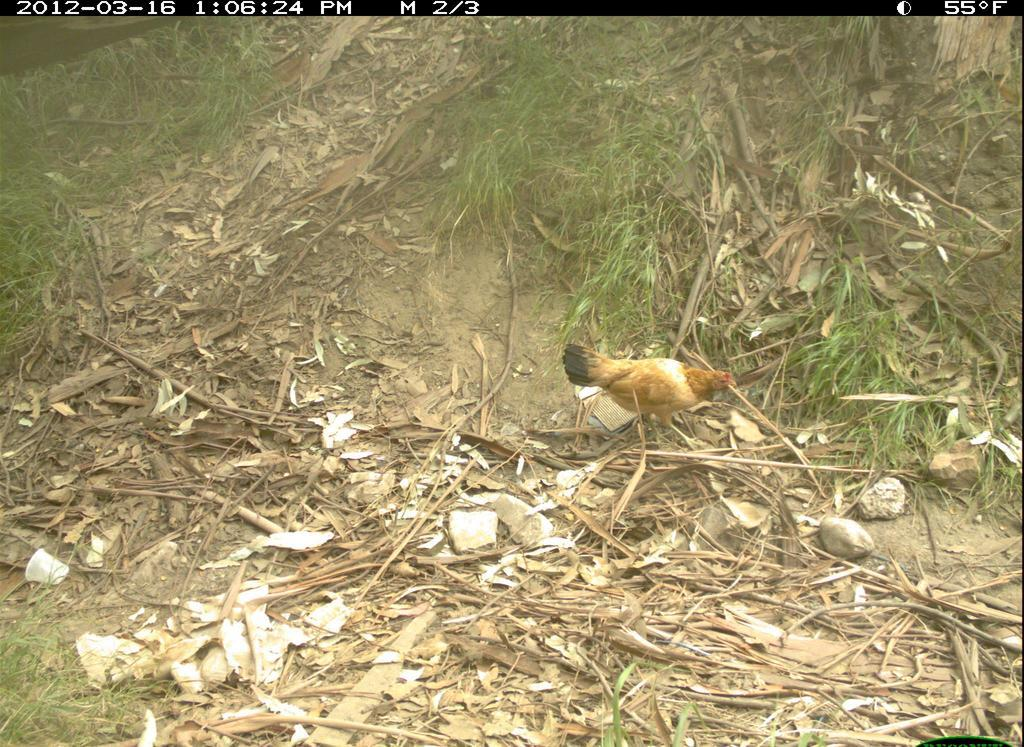bird: (559, 332, 740, 456)
